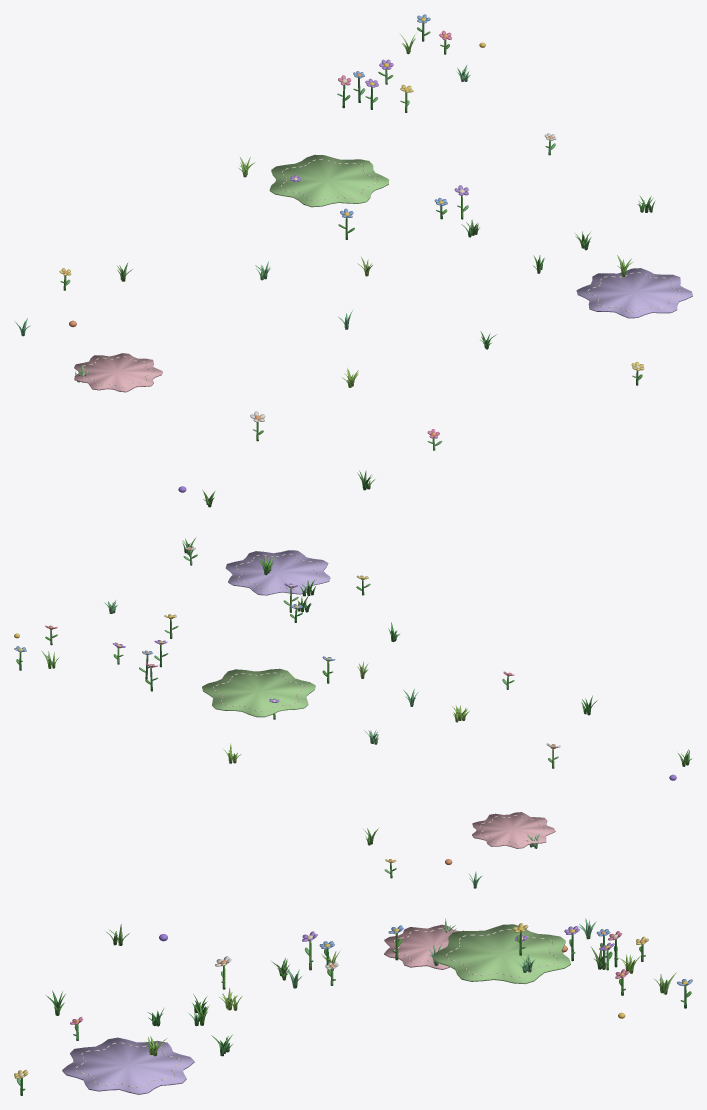
File: W4_FloraRing_8_9.fbx
3 views of the same model, one above another, from view 1: azimuth 30°, elevation 25°; view 2: azimuth 150°, elevation 25°; view 3: azimuth 270°, elevation 25° (orthographic). The views are drawn at different scales.
Visible parts, largest first — view 1: W4_FloraRing_8_9; view 2: W4_FloraRing_8_9; view 3: W4_FloraRing_8_9.
Part boxes in pixels (bbox=[...]): W4_FloraRing_8_9: bbox=[14, 14, 692, 507]; W4_FloraRing_8_9: bbox=[14, 538, 692, 888]; W4_FloraRing_8_9: bbox=[14, 918, 692, 1095].
Size of the model in its own units: 3.94 by 1.5 by 4.
